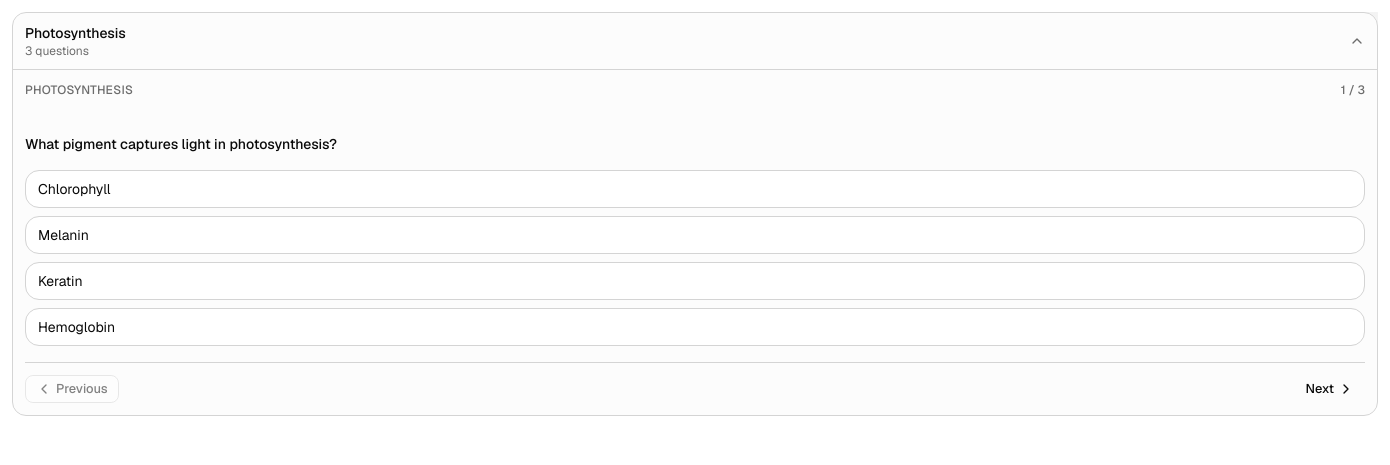
it: QuizPanel pagination › Previous returns to the prior question, keeping its selection
Click the button "Chlorophyll" at (74, 189), box [25,170,1365,208]
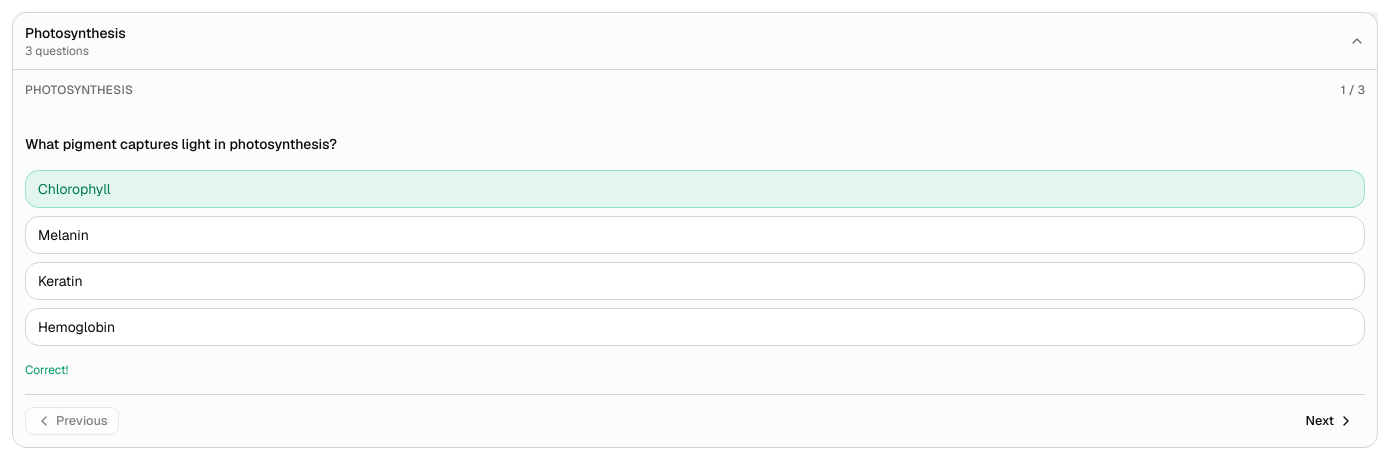
Click the button with aria-label "Next question" at (1330, 421), box [1294,407,1365,435]
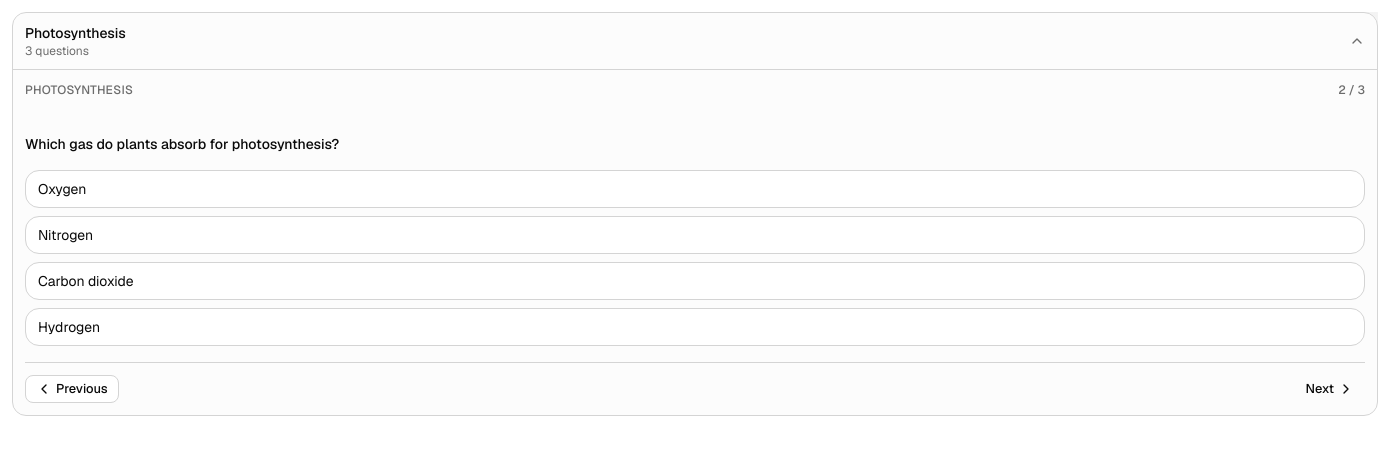
Expected: the text "2 / 3" is shown, [1338,82,1365,98]
Click the button with aria-label "Previous question" at (72, 389), box [25,375,119,403]
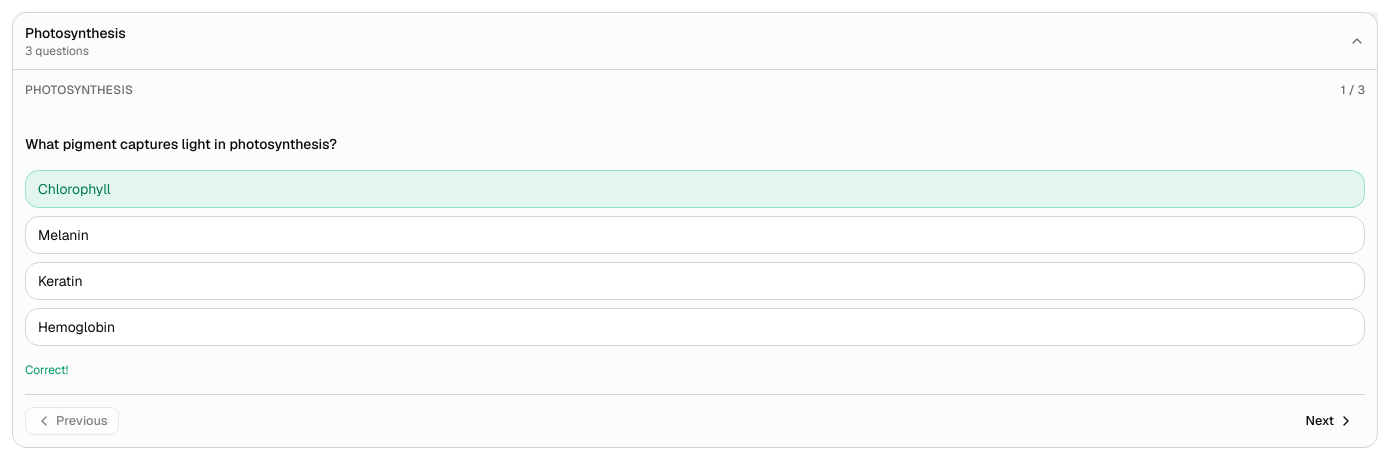
Expected: the text "1 / 3" is shown, [1341,82,1365,98]
Expected: the button "Chlorophyll" is disabled, [25,170,1365,208]
Expected: the text "Correct!" is shown, [25,362,68,378]
